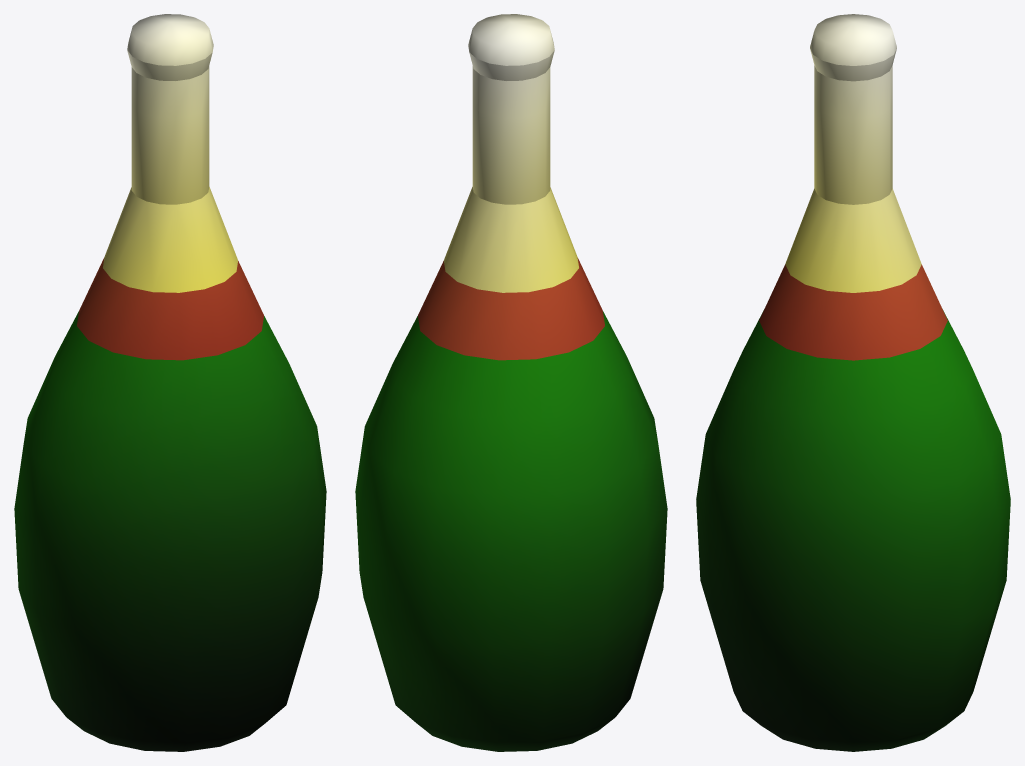
The model's file is WineBottle3.fbx.
3 views of the same model, side by side, from view 1: azimuth 30°, elevation 25°; view 2: azimuth 150°, elevation 25°; view 3: azimuth 270°, elevation 25° (orthographic).
Parts seen in each view (by area): view 1: Wine Bottle.002; view 2: Wine Bottle.002; view 3: Wine Bottle.002.
Boxes of the visible parts, bbox=[...] form: Wine Bottle.002: bbox=[14, 14, 326, 751]; Wine Bottle.002: bbox=[355, 14, 667, 751]; Wine Bottle.002: bbox=[696, 14, 1010, 751].
Size of the model in its own units: 27 by 65.07 by 27.
Materials: 1 (1 with a texture image).
